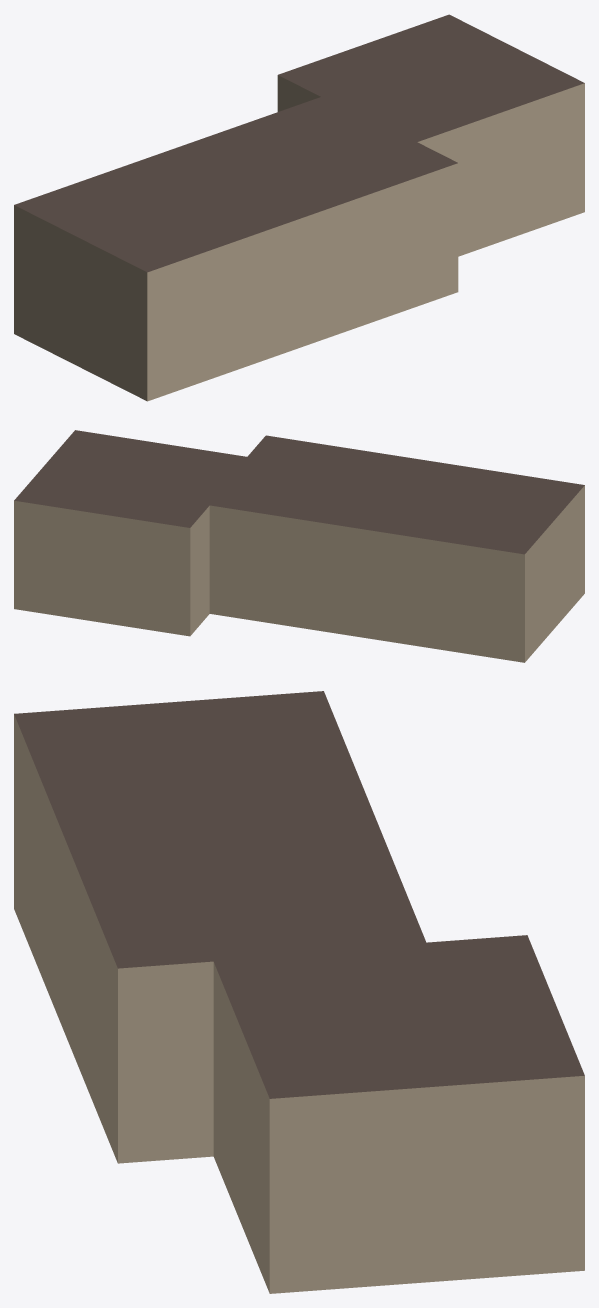
3 views of the same model, one above another, from view 1: azimuth 30°, elevation 25°; view 2: azimuth 150°, elevation 25°; view 3: azimuth 270°, elevation 25° (orthographic). The views are drawn at different scales.
Visible parts, largest first — view 1: HP-w1201229326; view 2: HP-w1201229326; view 3: HP-w1201229326.
Boxes of the visible parts, bbox=[...] form: HP-w1201229326: bbox=[14, 14, 584, 401]; HP-w1201229326: bbox=[14, 430, 584, 662]; HP-w1201229326: bbox=[14, 691, 584, 1293].
Size of the model in its own units: 40.37 by 9 by 23.88.
